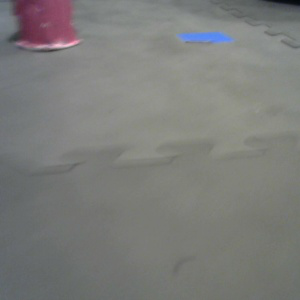middle: (13, 1, 81, 51)
